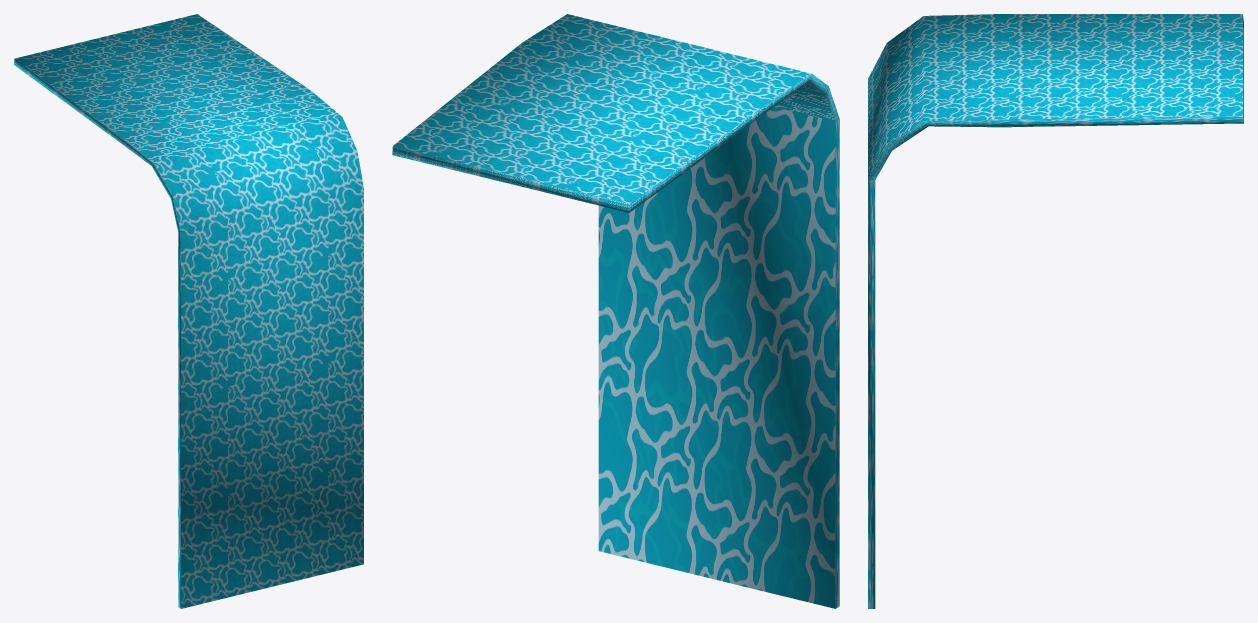
The model's file is Waterfall.glb.
The picture shows the model from 3 angles, left to right: view 1: azimuth 30°, elevation 25°; view 2: azimuth 150°, elevation 25°; view 3: azimuth 270°, elevation 25°; orthographic projection. The views are drawn at different scales.
Parts seen in each view (by area): view 1: WaterFall; view 2: WaterFall; view 3: WaterFall.
Part boxes in pixels (<box>): WaterFall: <box>14,14,363,608</box>; WaterFall: <box>392,14,839,608</box>; WaterFall: <box>868,14,1243,608</box>.
Size of the model in its own units: 4 by 8.66 by 6.
Materials: 1 (1 with a texture image).
